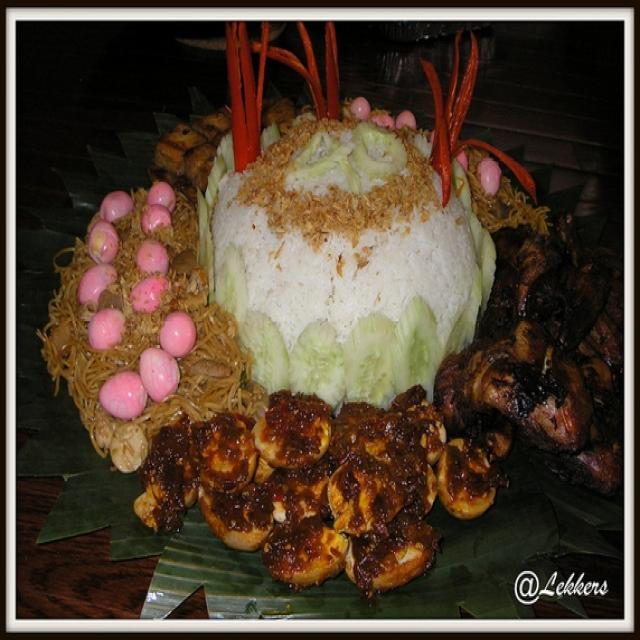米饭主食: (54, 50, 605, 569)
